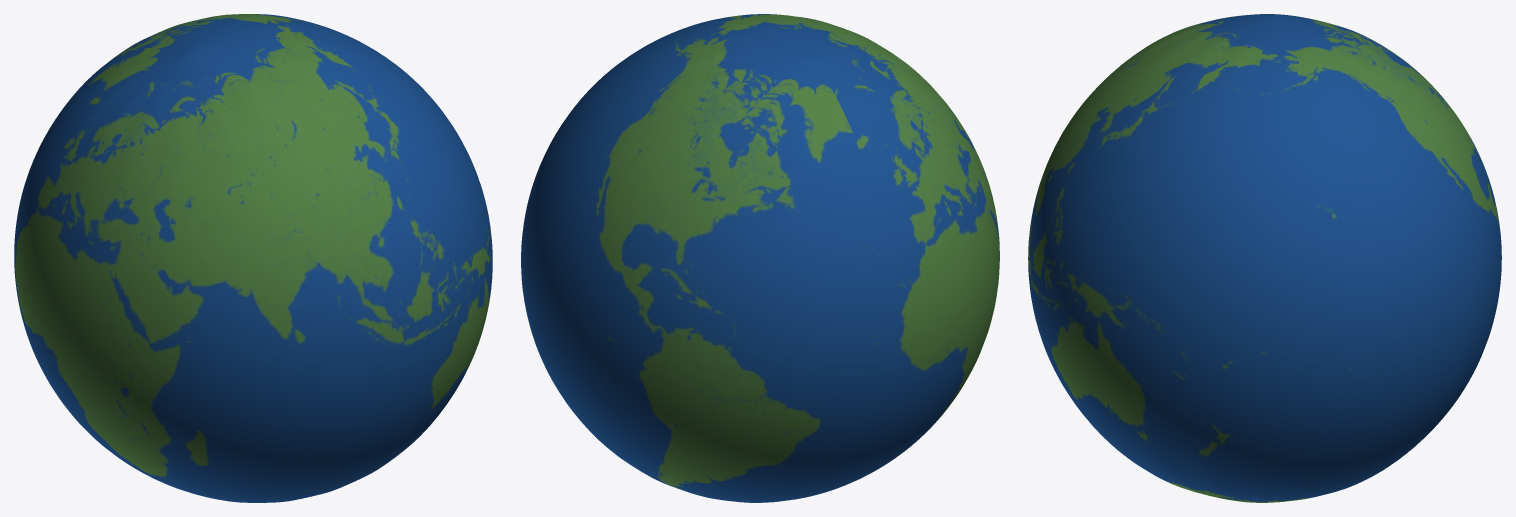
Rendered from nature-earth-001.glb.
3 views of the same model, side by side, from view 1: azimuth 30°, elevation 25°; view 2: azimuth 150°, elevation 25°; view 3: azimuth 270°, elevation 25° (orthographic).
Visible parts, largest first — view 1: Sphere.001; view 2: Sphere.001; view 3: Sphere.001.
Part boxes in pixels (left/top/right/bottom): Sphere.001: left=14, top=14, right=492, bottom=502; Sphere.001: left=521, top=14, right=999, bottom=502; Sphere.001: left=1028, top=14, right=1501, bottom=502.
Bounding box in the file's own units: 1188 × 1221 × 1186.
1 material, 1 textured.
